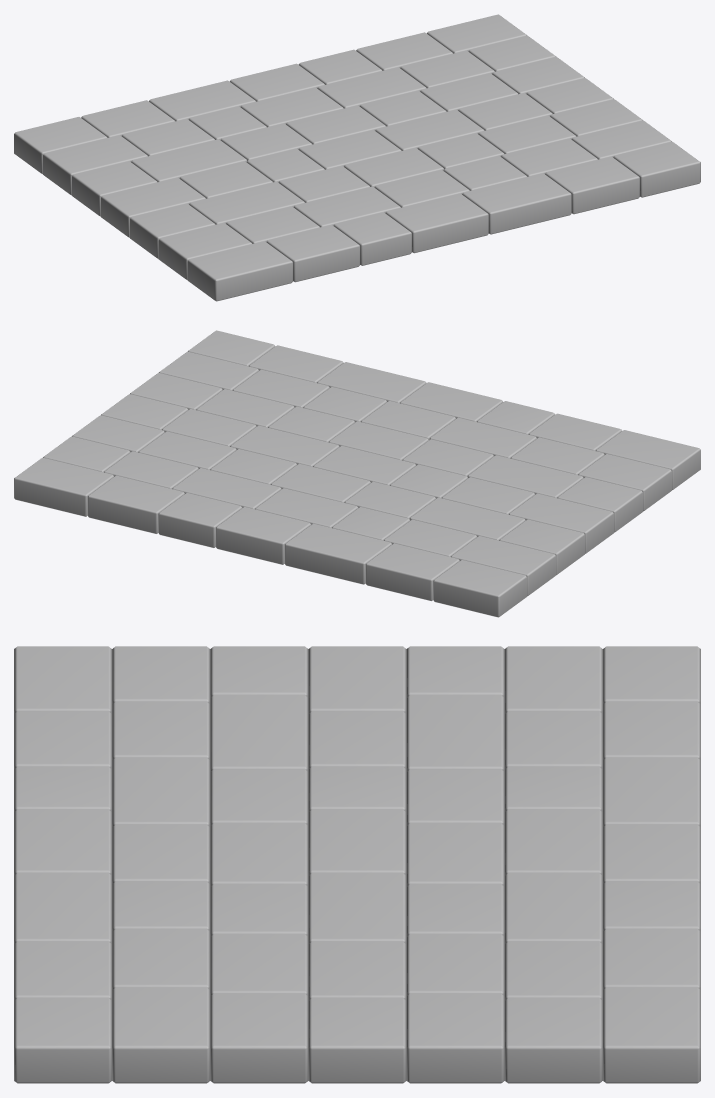
The model's file is City_3_Base_1.glb.
The picture shows the model from 3 angles, top to bottom: view 1: azimuth 30°, elevation 25°; view 2: azimuth 150°, elevation 25°; view 3: azimuth 270°, elevation 25°; orthographic projection. The views are drawn at different scales.
Visible parts, largest first — view 1: City_3_Base_1; view 2: City_3_Base_1; view 3: City_3_Base_1.
Part boxes in pixels (left/top/right/bottom): City_3_Base_1: left=14, top=14, right=700, bottom=301; City_3_Base_1: left=14, top=330, right=700, bottom=617; City_3_Base_1: left=14, top=646, right=700, bottom=1083.
Size of the model in its own units: 14.12 by 0.6294 by 10.19.
1 material, 1 textured.
